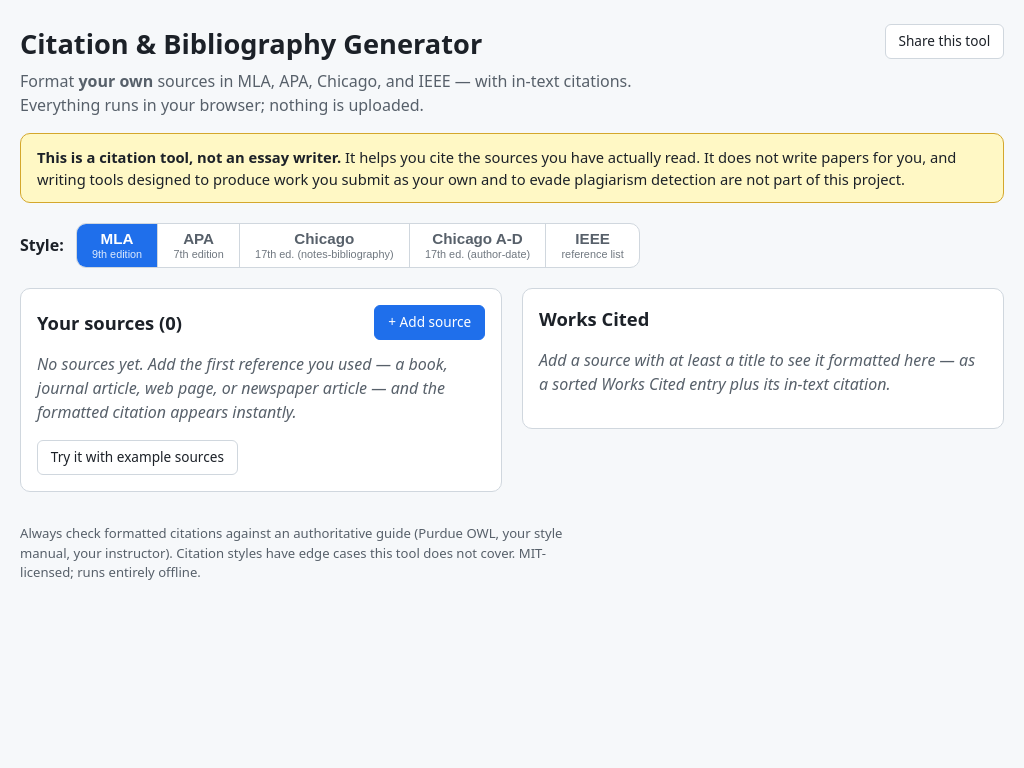
Test: App › clears all sources after confirmation
Click the button "Try it with example sources": (137, 458) [37, 440, 238, 475]
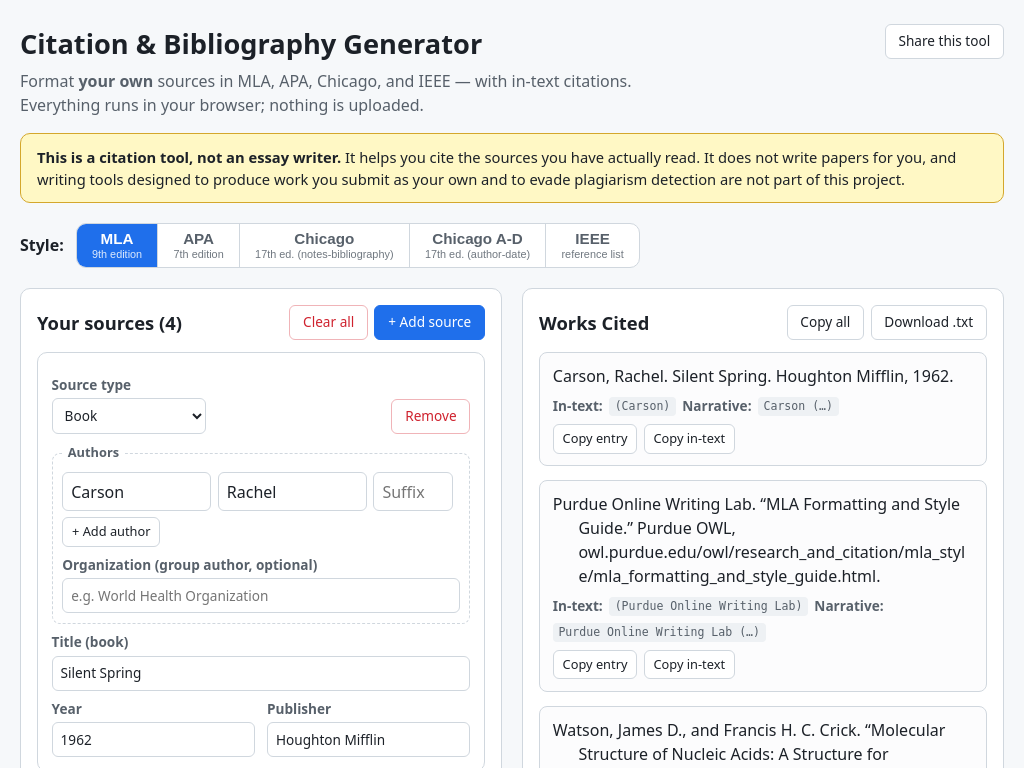
Click the button "Clear all": (329, 322) [289, 305, 368, 340]
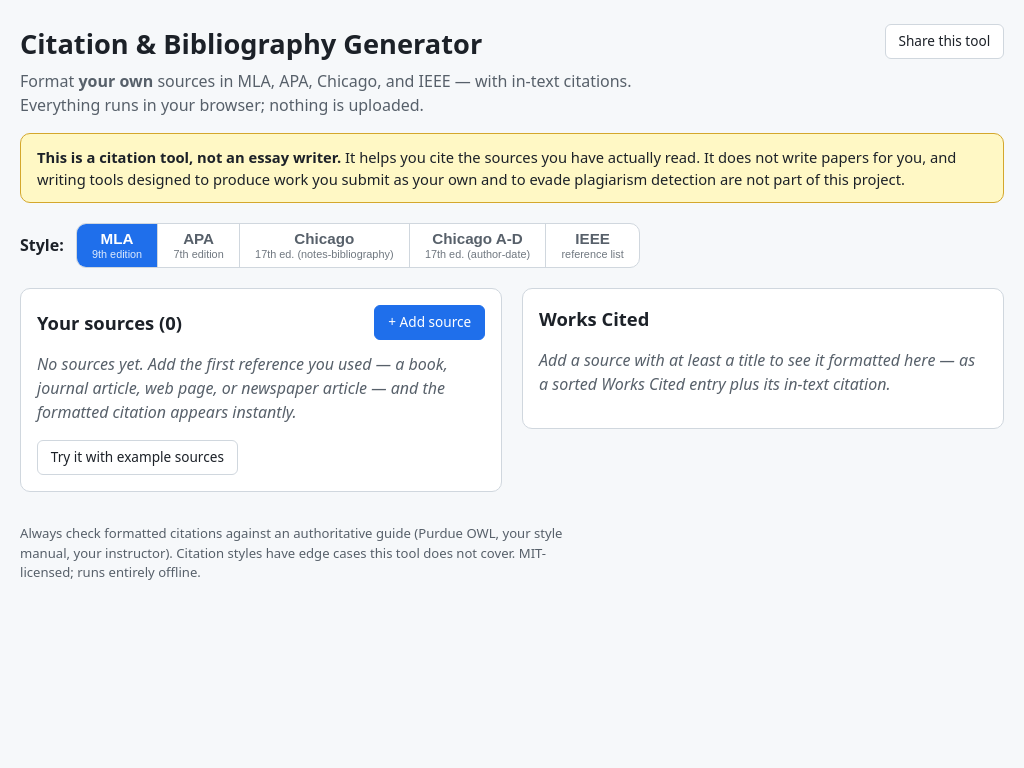
expect no elements with test id "source-editor" are shown: met
expect the text "No sources yet" is shown: met, box [37, 353, 448, 423]
